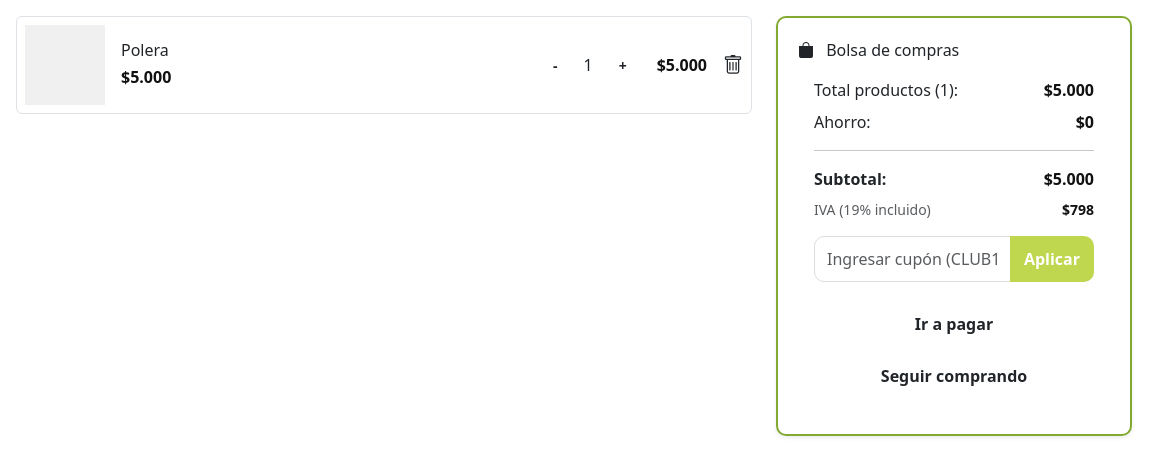
Scenario: Carrito - agregar producto › actualiza cantidad total y total del carrito al incrementar
Expected: the text with id "totalBruto" is shown, [1044,78,1094,102]
Expected: the text with id "cantProd" reads "1", [940,79,949,101]
Click the button "+" at (623, 65), box [605,44,641,86]
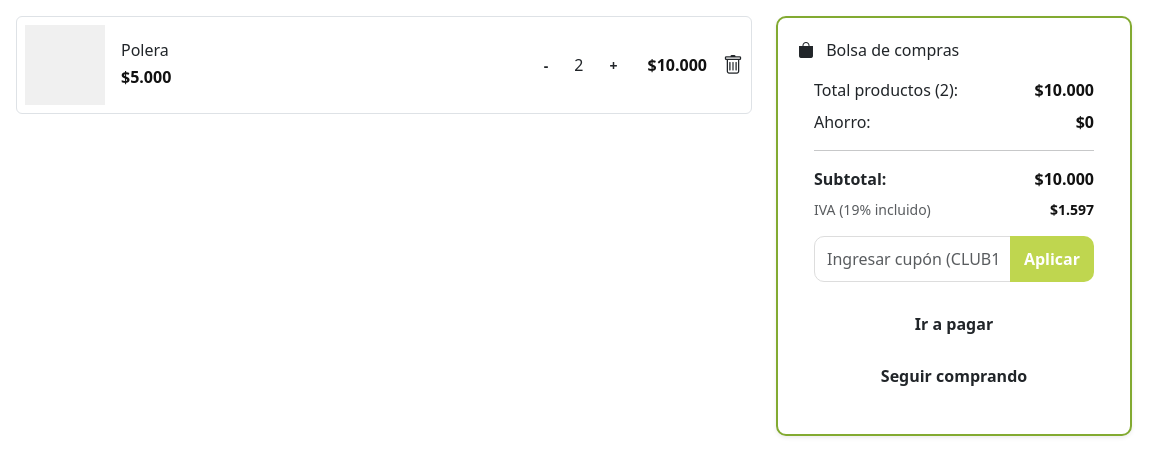
Expected: the text with id "cantProd" reads "2", [940,79,949,101]
